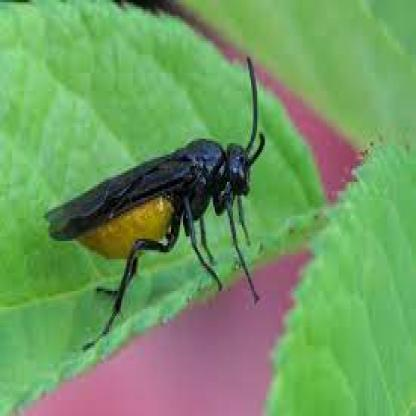sawfly: (47, 57, 276, 333)
